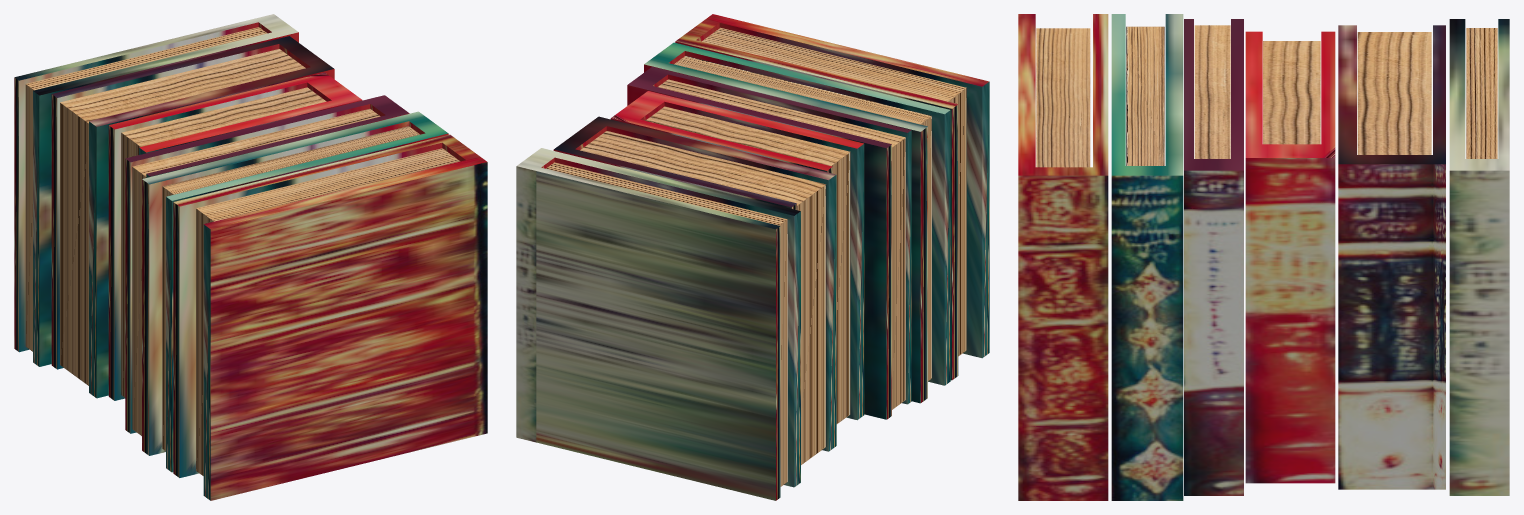
File: Libros5.obj
3 renders of one model, left to right at view 1: azimuth 30°, elevation 25°; view 2: azimuth 150°, elevation 25°; view 3: azimuth 270°, elevation 25°, orthographic. The views are drawn at different scales.
Parts seen in each view (by area): view 1: pCube1, pCube2, pCube11, pCube6, pCube5, pCube4, pCube7, pCube3, pCube9, pCube10, pCube12, pCube8; view 2: pCube6, pCube2, pCube1, pCube3, pCube11, pCube4, pCube5, pCube10, pCube7, pCube9, pCube12, pCube8; view 3: pCube5, pCube1, pCube4, pCube2, pCube6, pCube3, pCube11, pCube7, pCube10, pCube8, pCube9, pCube12.
Boxes of the visible parts, x1=… form: pCube1: x1=173, y1=134, x2=487, y2=500; pCube2: x1=142, y1=111, x2=448, y2=472; pCube11: x1=60, y1=49, x2=305, y2=385; pCube6: x1=14, y1=14, x2=298, y2=366; pCube5: x1=51, y1=36, x2=334, y2=398; pCube4: x1=108, y1=72, x2=362, y2=400; pCube7: x1=196, y1=148, x2=459, y2=475; pCube3: x1=125, y1=95, x2=409, y2=433; pCube9: x1=132, y1=109, x2=380, y2=435; pCube10: x1=121, y1=87, x2=326, y2=397; pCube12: x1=25, y1=27, x2=267, y2=351; pCube8: x1=162, y1=126, x2=419, y2=450; pCube6: x1=516, y1=148, x2=800, y2=500; pCube2: x1=644, y1=42, x2=950, y2=403; pCube1: x1=675, y1=14, x2=989, y2=380; pCube3: x1=627, y1=66, x2=911, y2=419; pCube11: x1=580, y1=131, x2=826, y2=464; pCube4: x1=610, y1=91, x2=864, y2=420; pCube5: x1=553, y1=116, x2=836, y2=451; pCube10: x1=645, y1=106, x2=850, y2=423; pCube7: x1=702, y1=27, x2=966, y2=356; pCube9: x1=658, y1=79, x2=905, y2=409; pCube12: x1=546, y1=162, x2=787, y2=486; pCube8: x1=674, y1=56, x2=931, y2=380; pCube5: x1=1338, y1=25, x2=1445, y2=489; pCube1: x1=1018, y1=14, x2=1108, y2=500; pCube4: x1=1245, y1=31, x2=1335, y2=483; pCube2: x1=1111, y1=14, x2=1183, y2=500; pCube6: x1=1449, y1=19, x2=1509, y2=495; pCube3: x1=1184, y1=19, x2=1243, y2=495; pCube11: x1=1357, y1=32, x2=1431, y2=154; pCube7: x1=1036, y1=28, x2=1090, y2=167; pCube10: x1=1263, y1=41, x2=1320, y2=144; pCube8: x1=1126, y1=26, x2=1164, y2=165; pCube9: x1=1194, y1=25, x2=1230, y2=158; pCube12: x1=1466, y1=28, x2=1497, y2=158.
Size of the model in its own units: 0.32 by 0.3 by 0.4105.
Materials: 2 (2 with a texture image).
